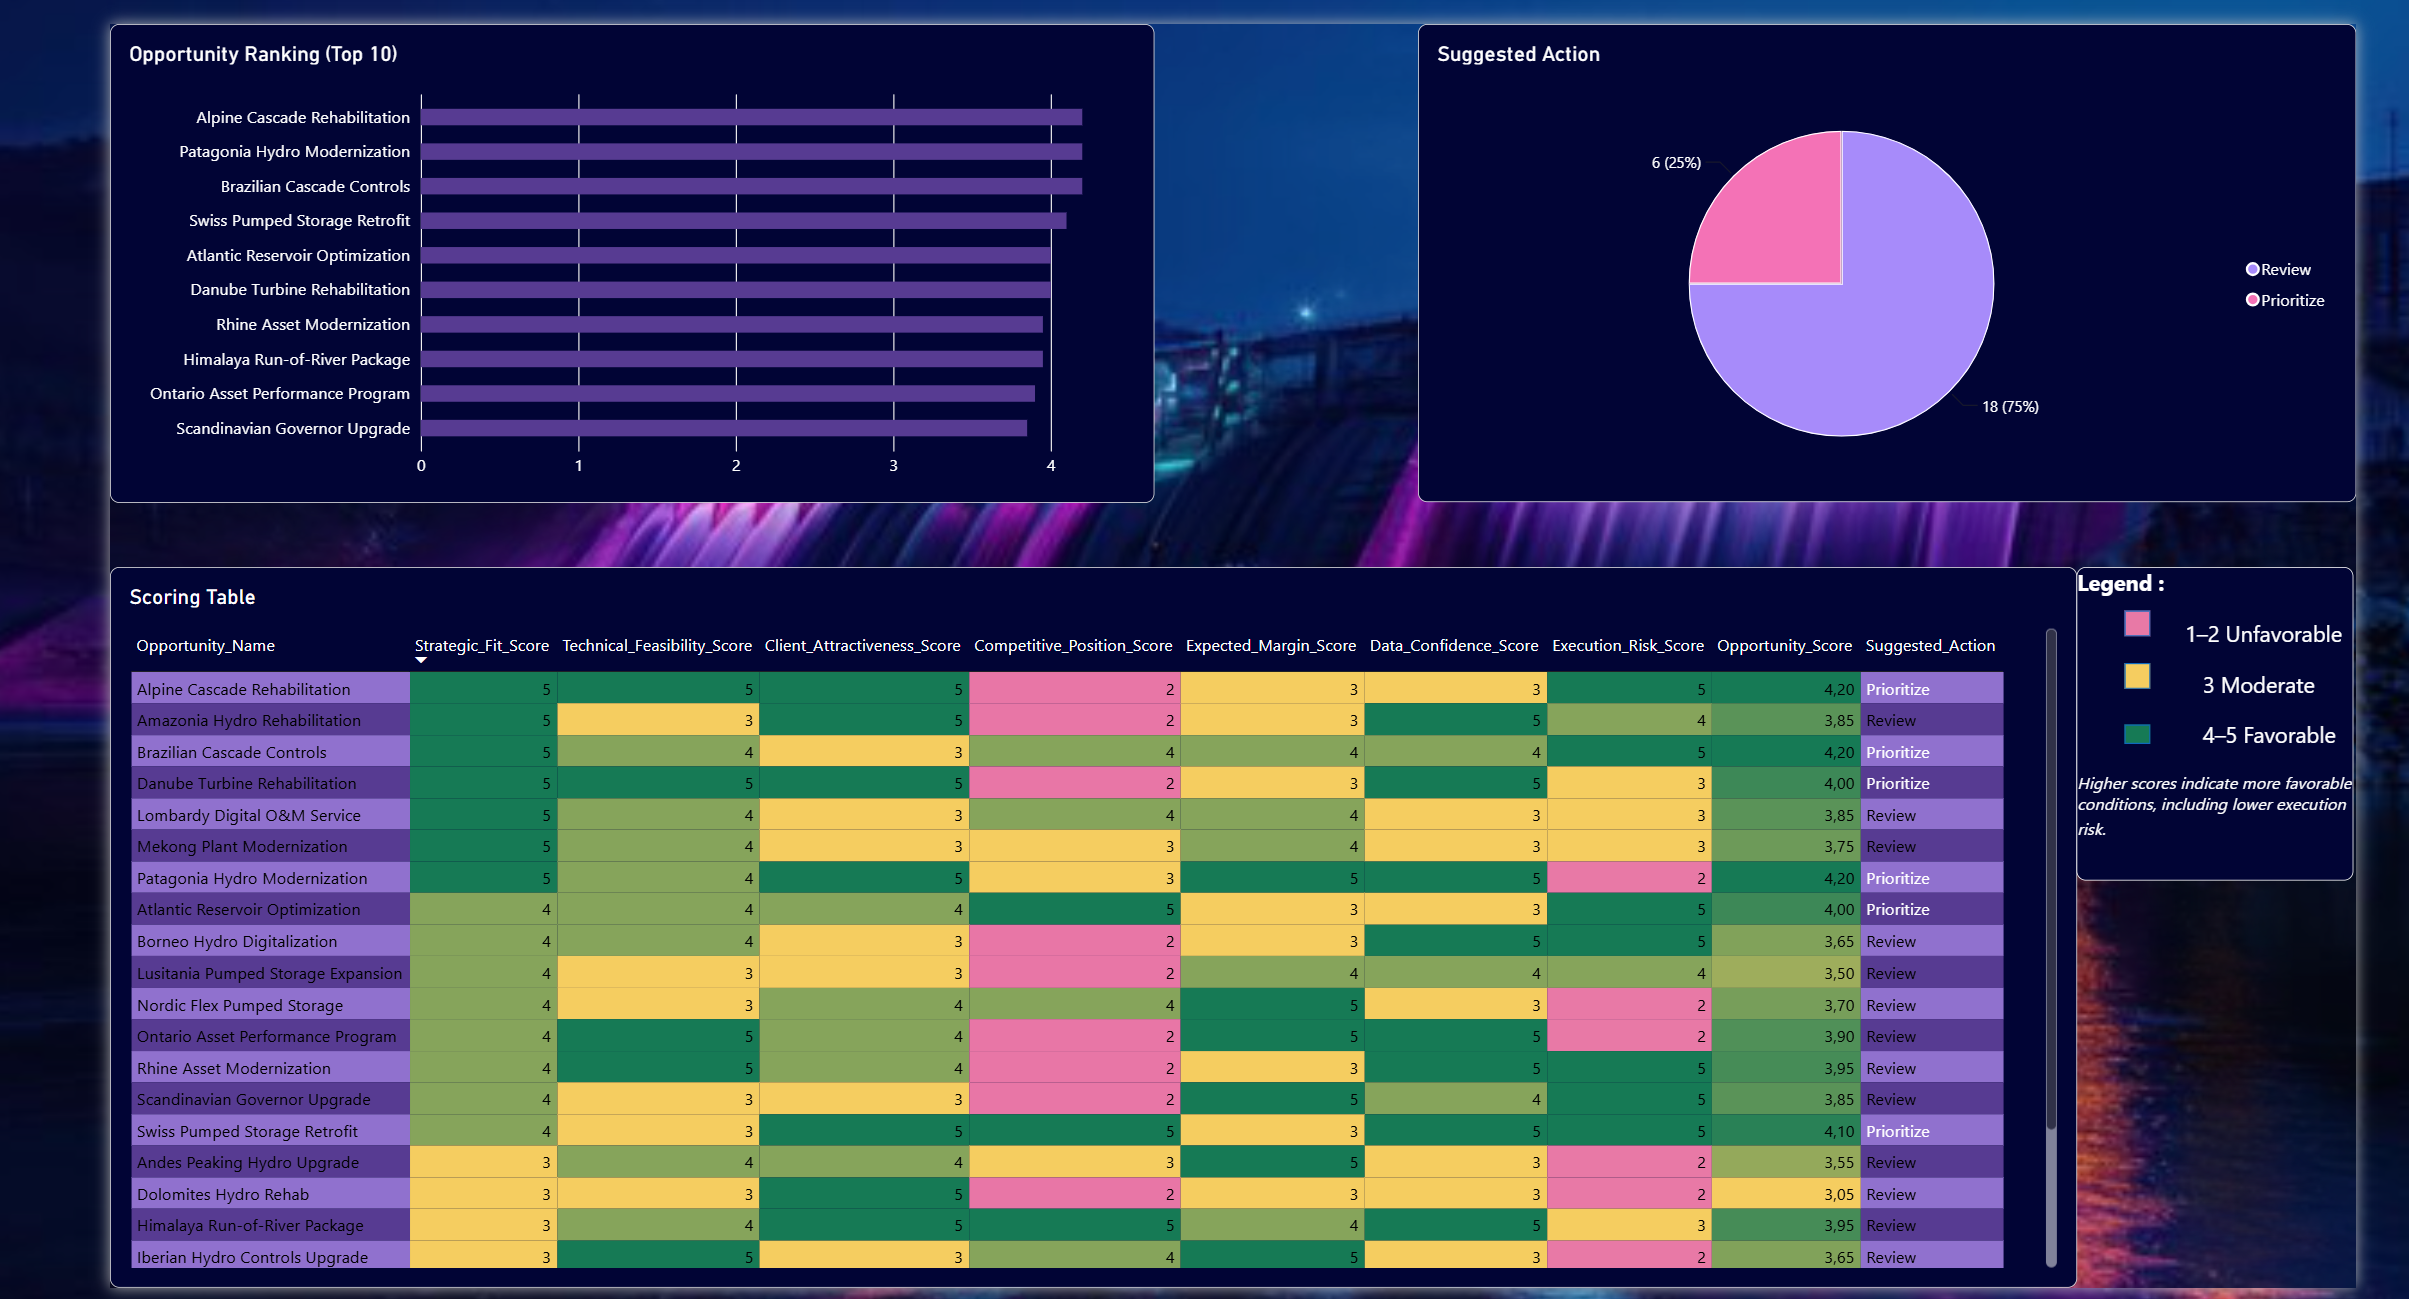

Layout of this report page (visuals, bound fields, positions):
{"tool":"powerbi","page":{"name":"Opportunity Pre-Screening & Scoring","canvas":[1920,1080],"ordinal":1},"visuals":[{"type":"barChart","title":" Opportunity Ranking (Top 10)","fields":{"Category":["OpportunitiesTable.Opportunity_Name"],"Y":["Sum(OpportunitiesTable.Opportunity_Score)"]},"box":[0,0,892.7,409.2],"z":0},{"type":"pieChart","title":"Suggested Action","fields":{"Category":["OpportunitiesTable.Suggested_Action"],"Y":["CountNonNull(OpportunitiesTable.Opportunity_ID)"]},"box":[1175.6,0,743.7,408.5],"z":1000},{"type":"tableEx","title":"Scoring Table","fields":{"Values":["OpportunitiesTable.Opportunity_Name","OpportunitiesTable.Strategic_Fit_Score","OpportunitiesTable.Technical_Feasibility_Score","OpportunitiesTable.Client_Attractiveness_Score","OpportunitiesTable.Competitive_Position_Score","OpportunitiesTable.Expected_Margin_Score","OpportunitiesTable.Data_Confidence_Score","OpportunitiesTable.Execution_Risk_Score","OpportunitiesTable.Opportunity_Score","OpportunitiesTable.Suggested_Action"]},"box":[0,464.2,1681,615.8],"z":2000},{"type":"textbox","box":[1681,464.2,236.7,268.2],"z":3000},{"type":"shape","box":[1721.7,501.2,22.2,22.2],"z":4000},{"type":"shape","box":[1721.7,545.5,22.2,22.2],"z":5000},{"type":"shape","box":[1721.7,599.2,22.2,16.6],"z":6000}]}

Visuals, with their boxes on the page's 1920x1080 design canvas (x1, y1, x2, y2). These are canvas units, not pixel positions in the 2409x1299 screenshot, which may show the page scaled, cropped or inside an application window:
" Opportunity Ranking (Top 10)" barChart: bbox(0, 0, 893, 409)
"Suggested Action" pieChart: bbox(1176, 0, 1919, 408)
"Scoring Table" tableEx: bbox(0, 464, 1681, 1080)
textbox: bbox(1681, 464, 1918, 732)
shape: bbox(1722, 501, 1744, 523)
shape: bbox(1722, 546, 1744, 568)
shape: bbox(1722, 599, 1744, 616)
